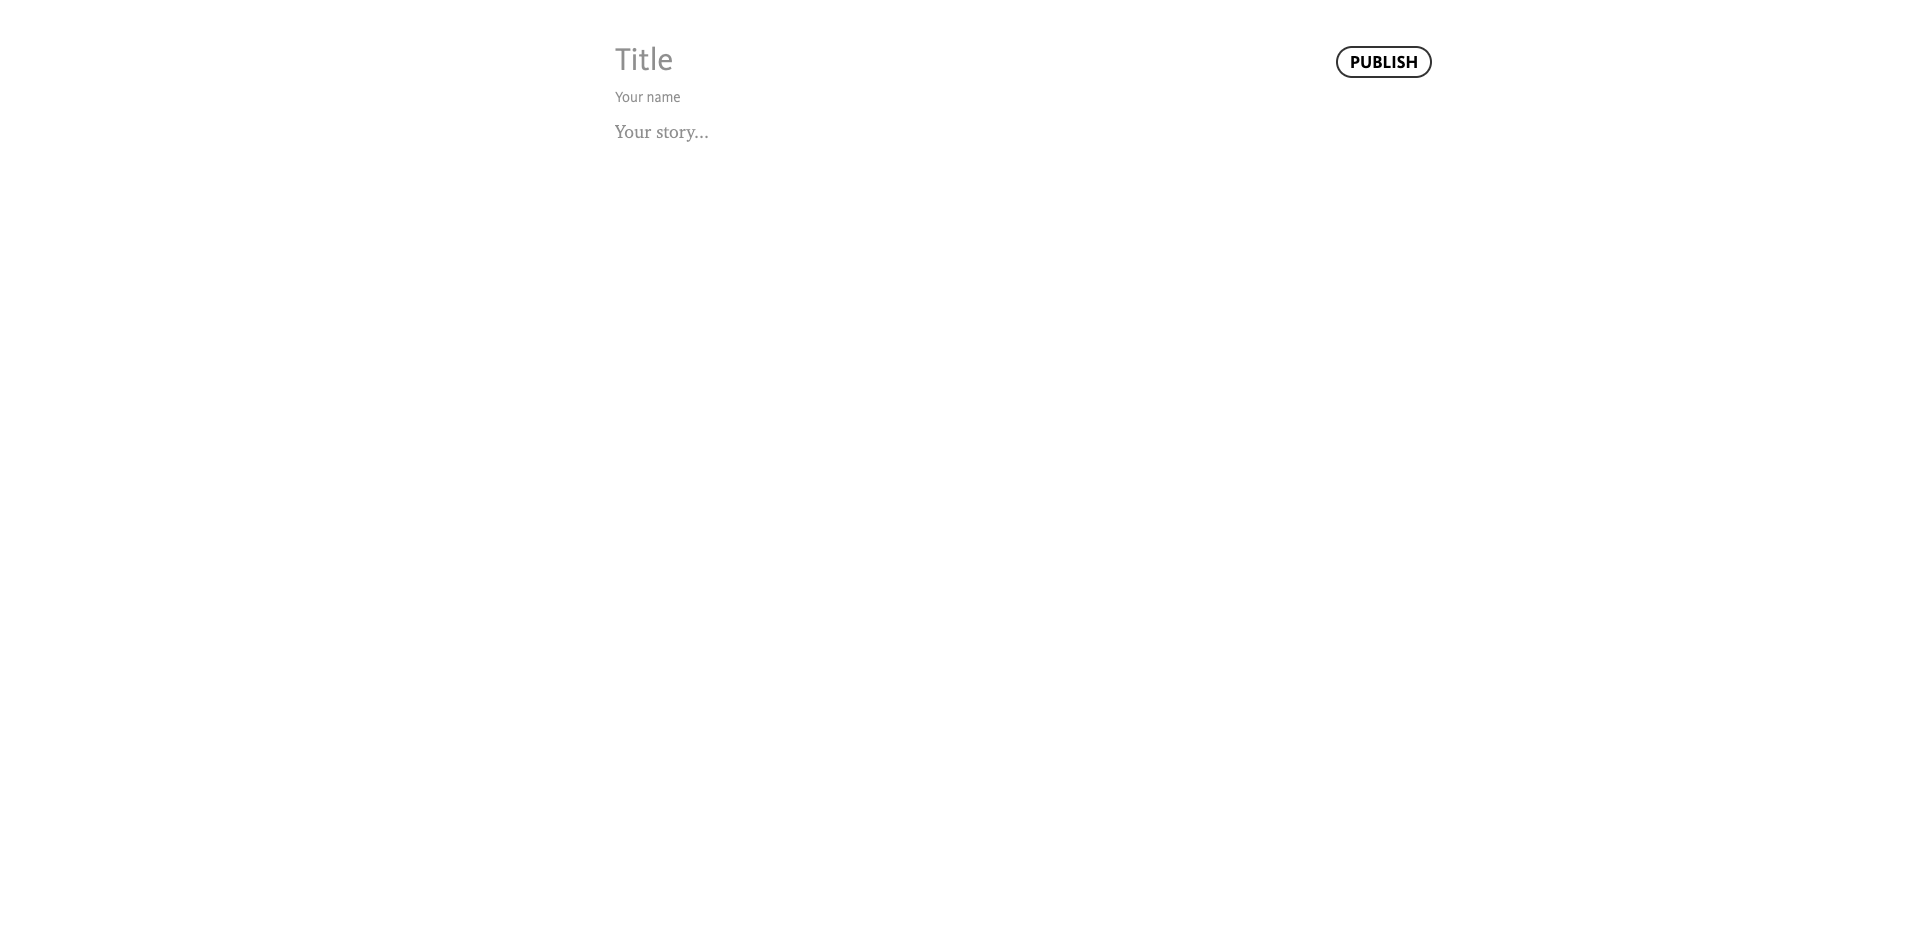button: (1336, 47, 1920, 108), (606, 67, 804, 93), (1336, 47, 1433, 78), (520, 145, 600, 173), (711, 56, 804, 78), (1336, 47, 1400, 78), (606, 56, 698, 78), (711, 77, 738, 103), (744, 77, 771, 103), (778, 77, 804, 103), (606, 67, 632, 93), (606, 77, 632, 103), (639, 77, 665, 103), (672, 77, 698, 103), (568, 146, 594, 172), (530, 146, 556, 172)
input: (594, 58, 789, 102)
